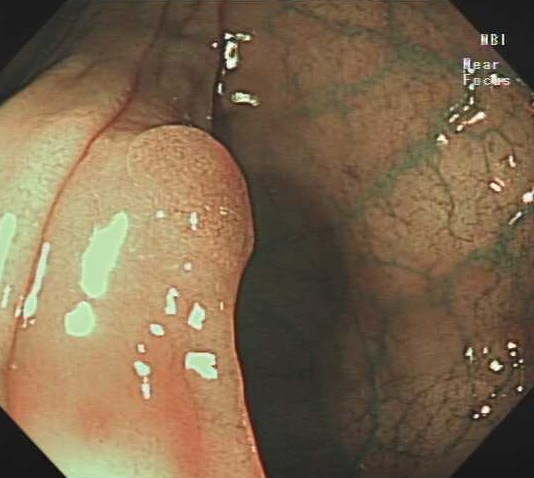adenoma: (126, 121, 257, 291)
